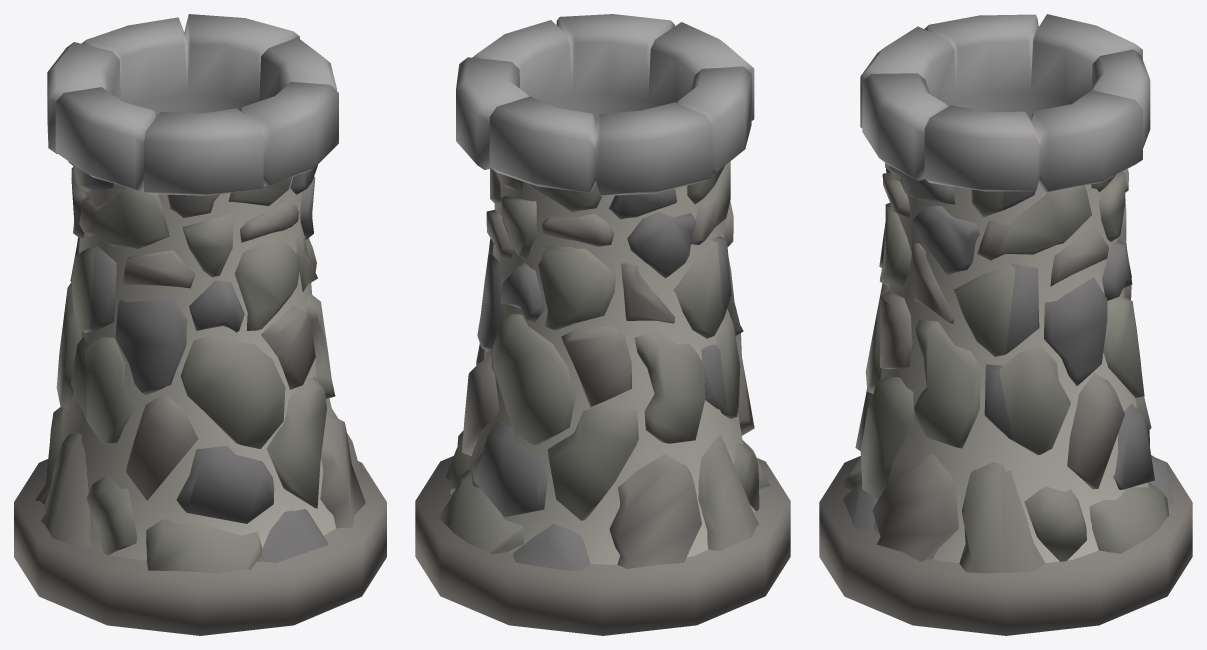
The model's file is rpgpp_ag_chimney_02a.fbx.
The picture shows the model from 3 angles, left to right: view 1: azimuth 30°, elevation 25°; view 2: azimuth 150°, elevation 25°; view 3: azimuth 270°, elevation 25°; orthographic projection.
Visible parts, largest first — view 1: rpgpp_ag_chimney_02a; view 2: rpgpp_ag_chimney_02a; view 3: rpgpp_ag_chimney_02a.
Part boxes in pixels (box(x1,y1,x2,y2)): rpgpp_ag_chimney_02a: box(14, 14, 386, 635); rpgpp_ag_chimney_02a: box(415, 14, 790, 635); rpgpp_ag_chimney_02a: box(819, 14, 1192, 635).
Bounding box in the file's own units: 2.18 × 3.12 × 2.18.
